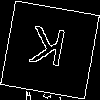K: (25, 25, 69, 77)
